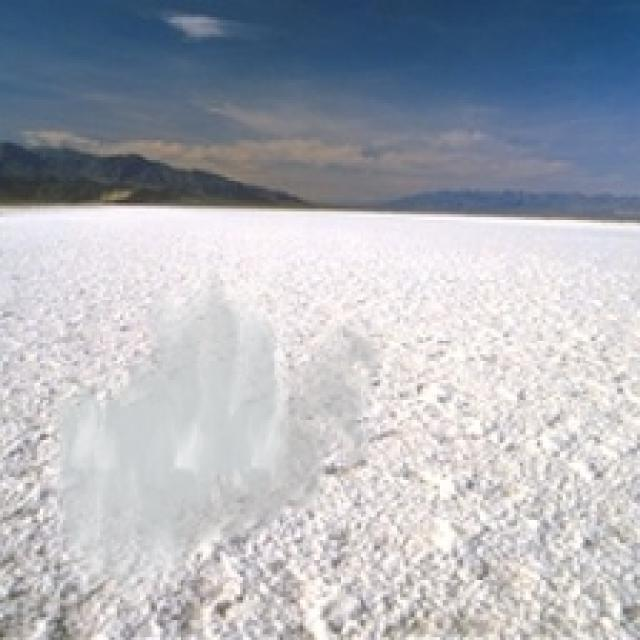Smoke: (49, 251, 392, 623)
